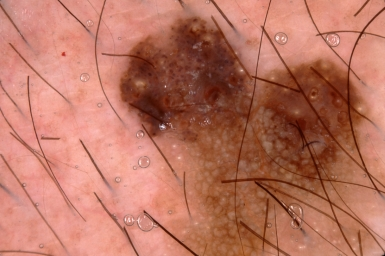seborrheic keratosis: (110, 7, 363, 253)
